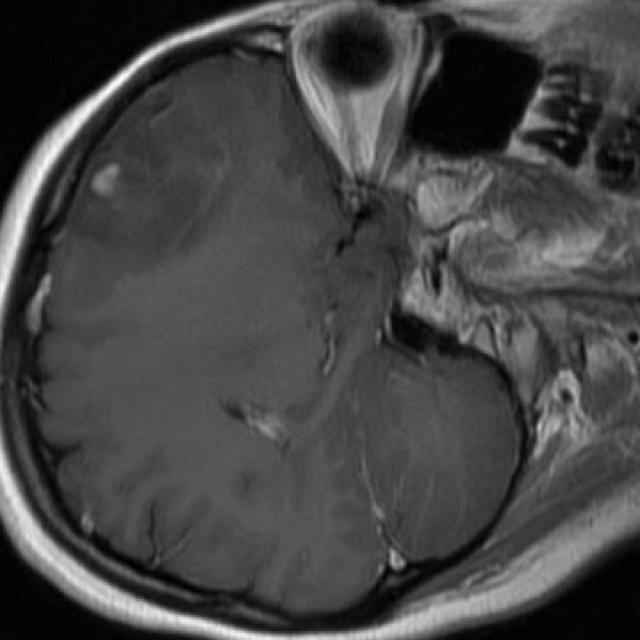glioma: (55, 80, 230, 299)
